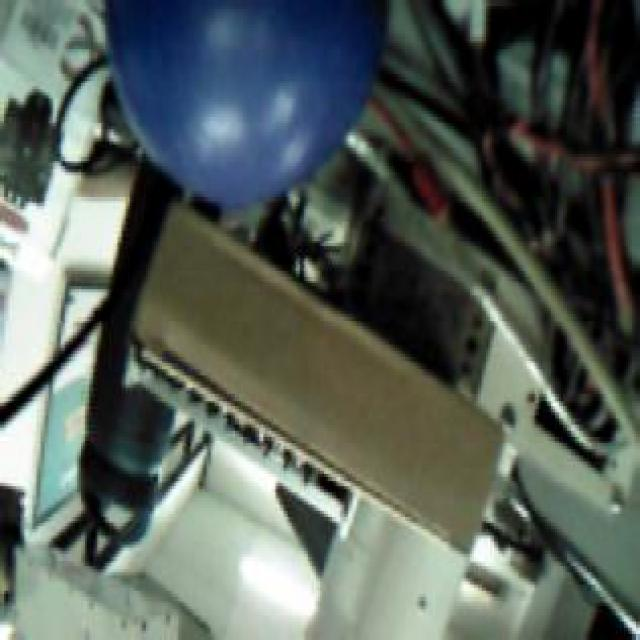BallPurple: (101, 0, 390, 207)
